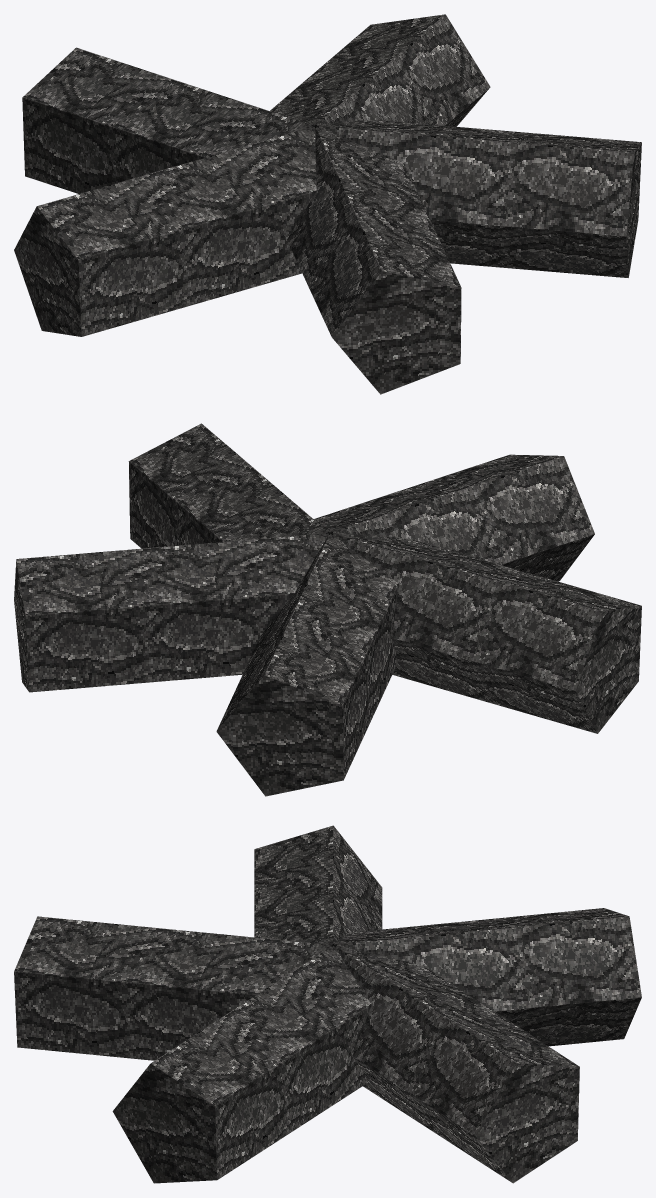
File: campfire_logs.glb
The picture shows the model from 3 angles, top to bottom: view 1: azimuth 30°, elevation 25°; view 2: azimuth 150°, elevation 25°; view 3: azimuth 270°, elevation 25°; orthographic projection. The views are drawn at different scales.
Visible parts, largest first — view 1: campfire_logs; view 2: campfire_logs; view 3: campfire_logs.
Part boxes in pixels (bbox=[...]): campfire_logs: bbox=[14, 14, 641, 394]; campfire_logs: bbox=[14, 423, 641, 796]; campfire_logs: bbox=[14, 825, 641, 1183].
Bounding box in the file's own units: 1.29 × 0.3129 × 1.33.
Materials: 1 (1 with a texture image).
